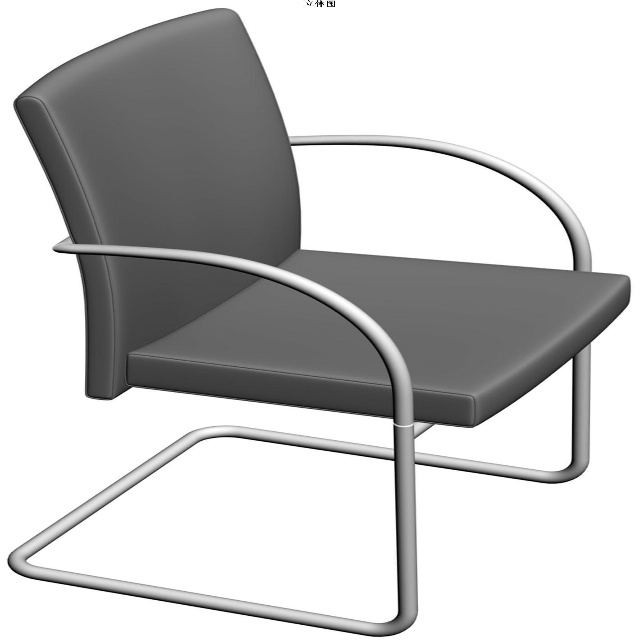obstacle: (3, 0, 638, 556), (3, 294, 637, 640)
